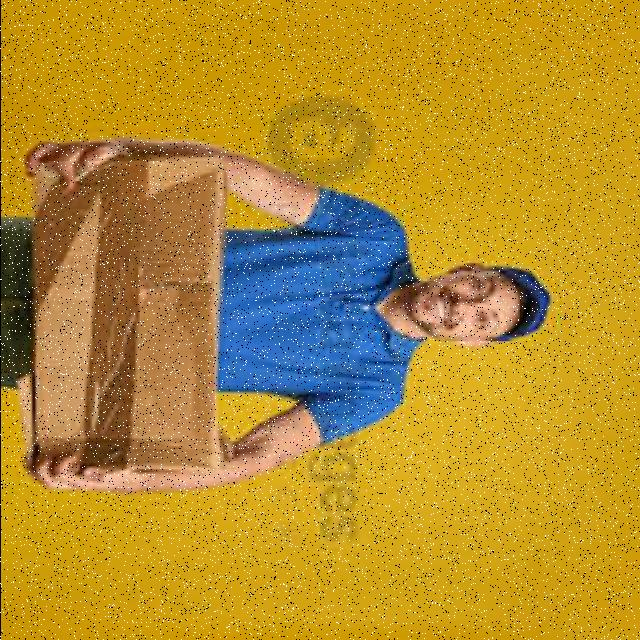defect: (24, 143, 228, 480)
